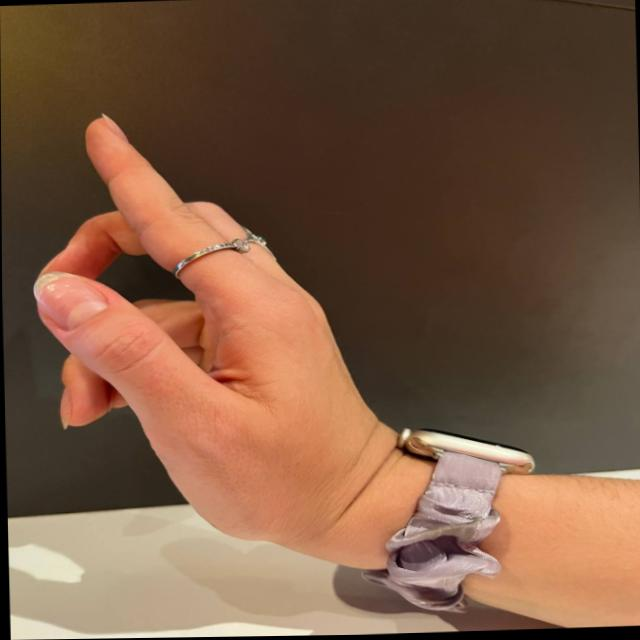b: (28, 105, 376, 531)
